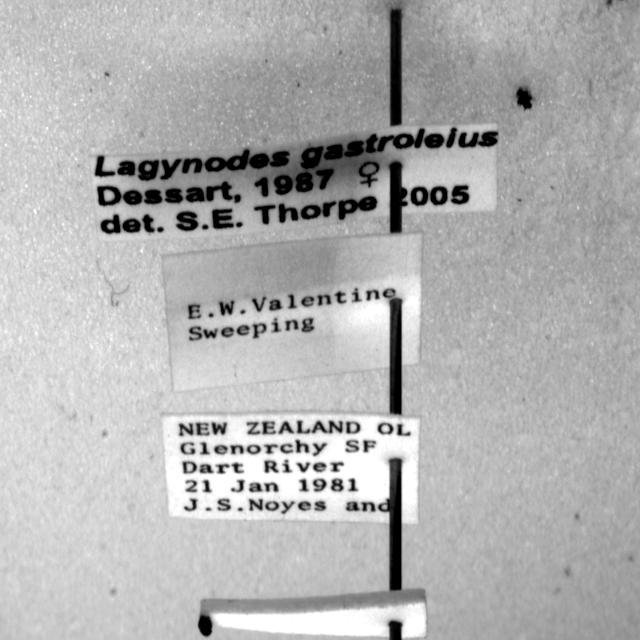typed_label: (91, 124, 499, 240), (162, 232, 422, 392), (162, 412, 420, 523)
